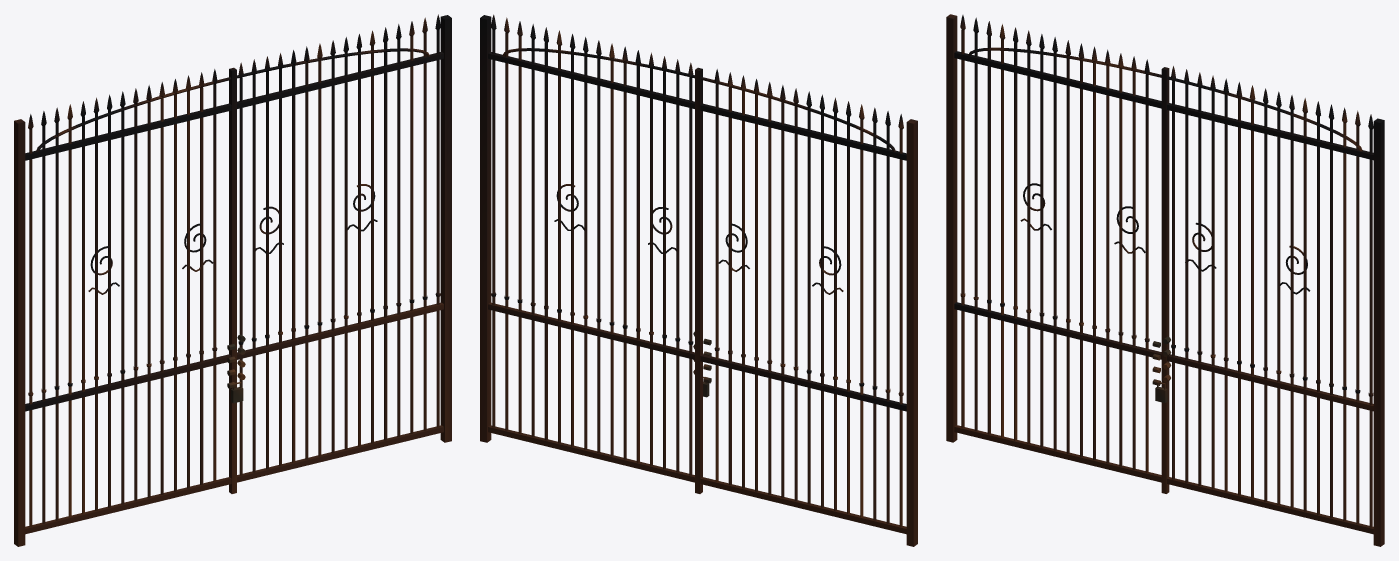
Rendered from gate-mausoleum-row.glb.
3 views of the same model, side by side, from view 1: azimuth 30°, elevation 25°; view 2: azimuth 150°, elevation 25°; view 3: azimuth 330°, elevation 25° (orthographic).
Visible parts, largest first — view 1: gate-mausoleum-row-iron; view 2: gate-mausoleum-row-iron; view 3: gate-mausoleum-row-iron.
Boxes of the visible parts, bbox=[...] form: gate-mausoleum-row-iron: bbox=[14, 14, 451, 546]; gate-mausoleum-row-iron: bbox=[480, 14, 917, 546]; gate-mausoleum-row-iron: bbox=[946, 14, 1384, 546].
Size of the model in its own units: 4.29 by 4.05 by 0.1249.
